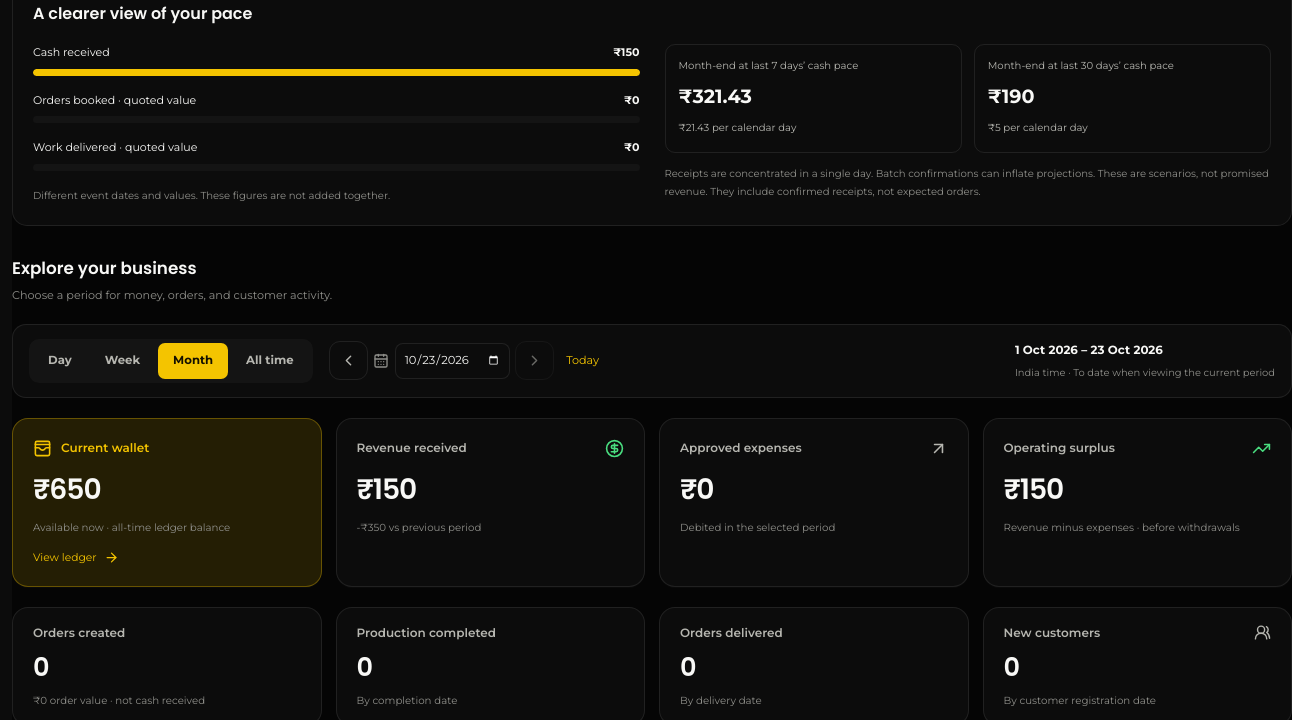
dashboard controls › switches all-time and daily financial data while keeping the wallet current
This screenshot has width=1292, height=720.
(page scrolled)
Click the button "All time" at [270, 361], box top-left (231, 343), bottom-right (309, 379)
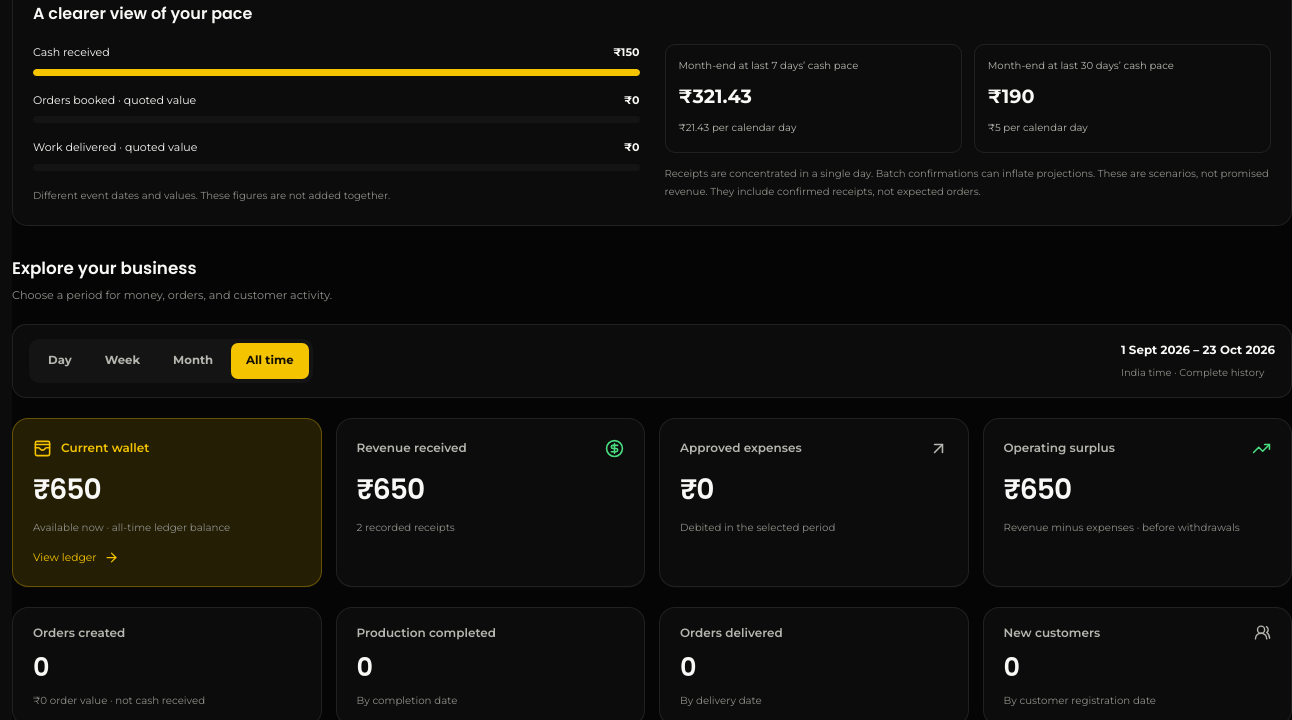
Check: the text "₹650" below "Revenue received" is shown, box top-left (356, 469), bottom-right (424, 509)
Click the button "Day" at [60, 361], box top-left (33, 343), bottom-right (87, 379)
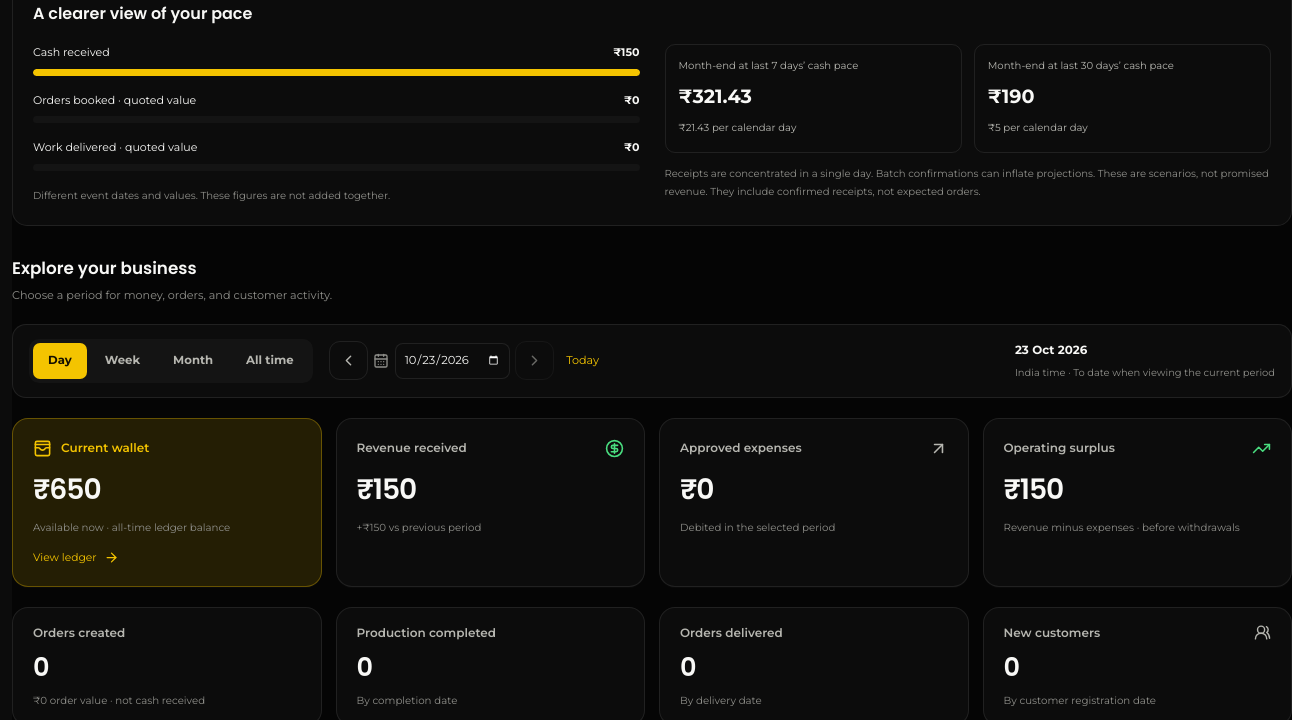
Check: the text "₹650" is shown, box top-left (33, 469), bottom-right (101, 509)
Check: the text "₹150" below "Revenue received" is shown, box top-left (356, 469), bottom-right (416, 509)
Click the button named "Previous period" at [348, 361], box top-left (329, 341), bottom-right (368, 380)
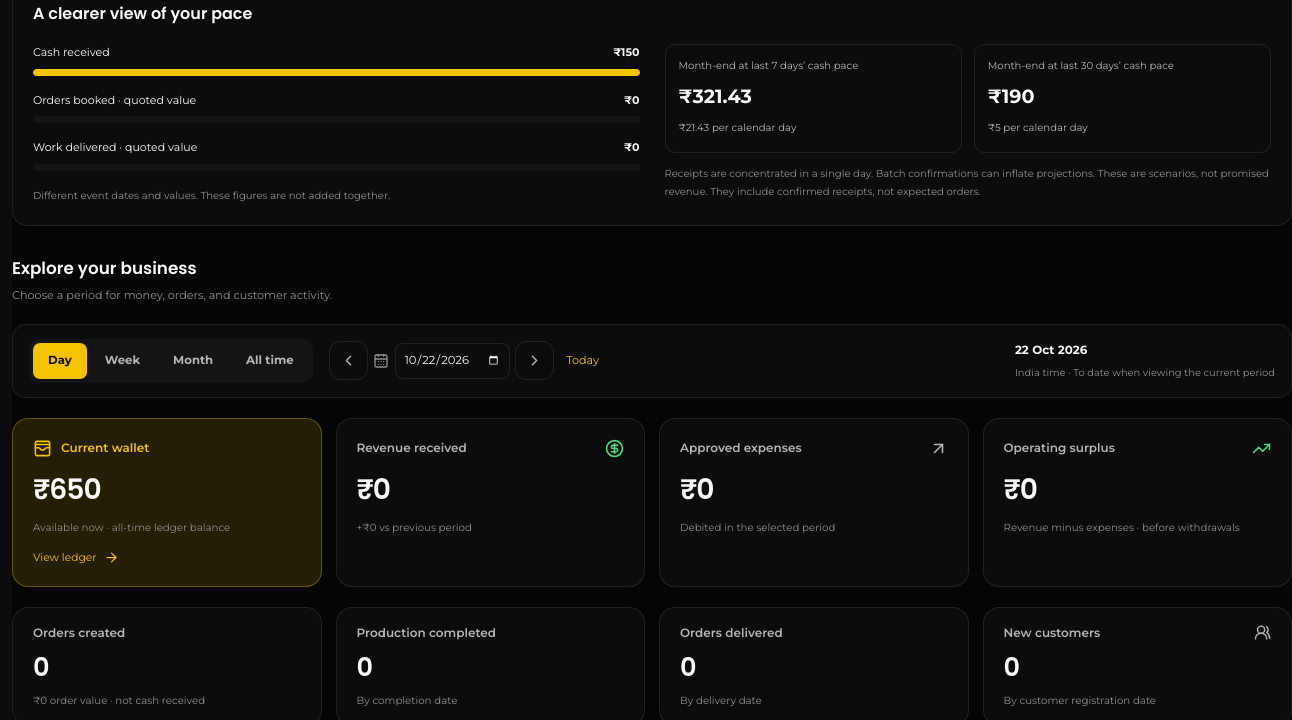
Check: the text "₹0" below "Revenue received" is shown, box top-left (356, 469), bottom-right (390, 509)
Check: the date field named "Choose report date" holds "2026-10-22", box top-left (395, 343), bottom-right (510, 378)
